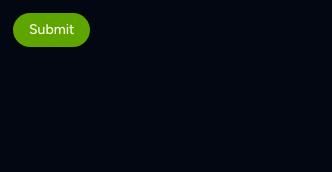
Scenario: Button › shows error state after failed async operation
This screenshot has width=332, height=172.
Later steps or results of the test are not shown.
// Click to trigger error
Click the button at (52, 30), box [12,12,91,48]
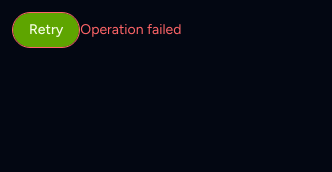
Check: the button is enabled, box [12,12,80,48]
Check: the button reads "Retry", box [12,12,80,48]
Check: the text "Operation failed" is shown, box [80,21,181,38]
